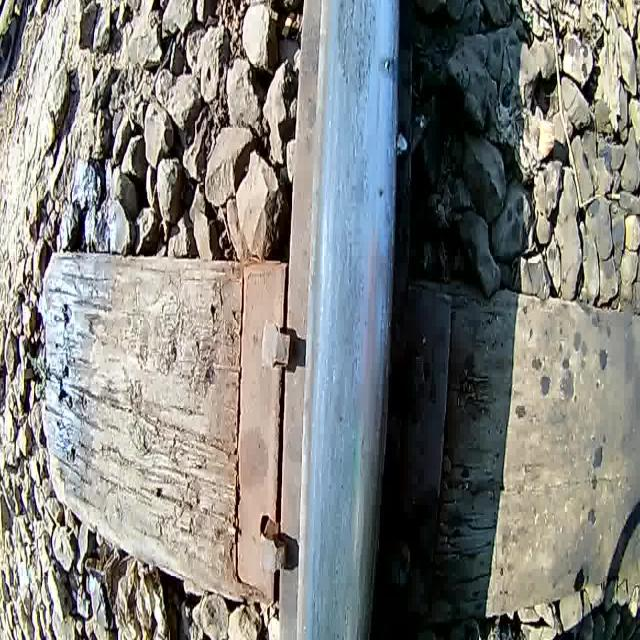Squats: (280, 1, 416, 640)
